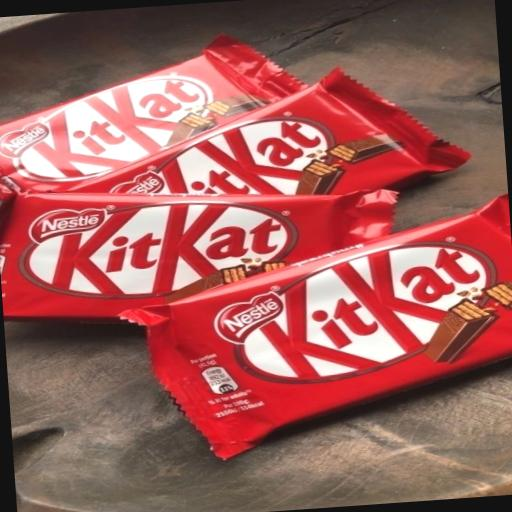kitkat: (109, 234, 512, 492)
